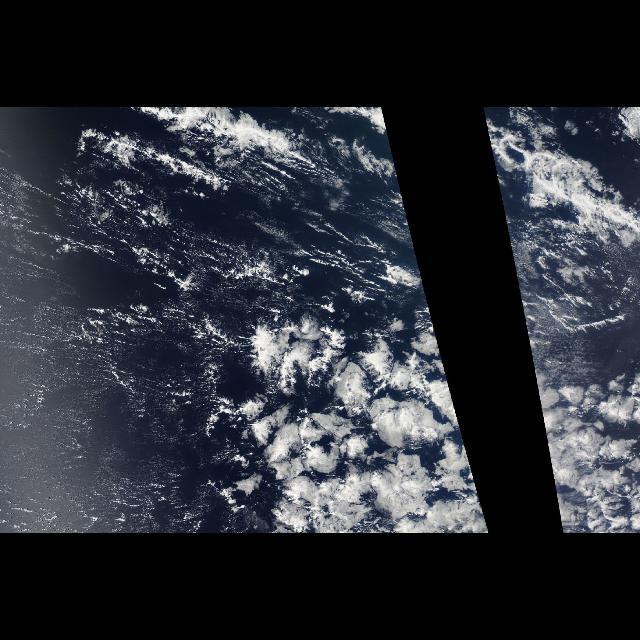Sugar: (7, 371, 215, 533)
